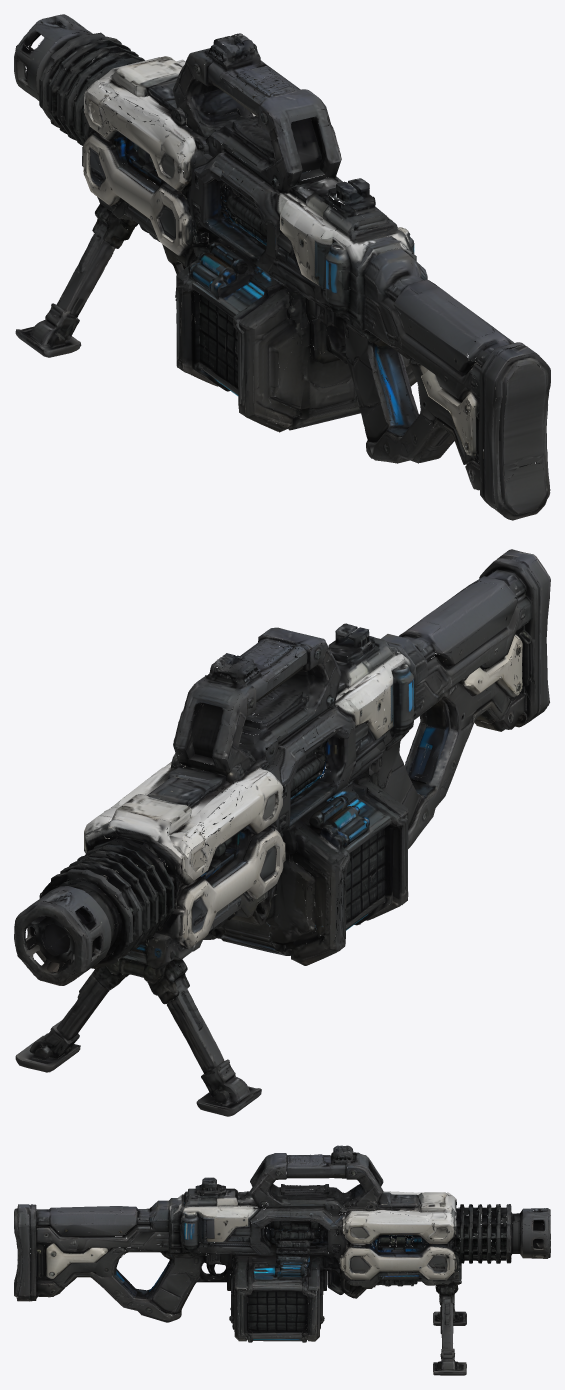
The model's file is em86m_viewmodel.glb.
3 views of the same model, one above another, from view 1: azimuth 30°, elevation 25°; view 2: azimuth 150°, elevation 25°; view 3: azimuth 270°, elevation 25° (orthographic). The views are drawn at different scales.
Parts seen in each view (by area): view 1: node_0; view 2: node_0; view 3: node_0.
Boxes of the visible parts, x1,y1,x2,y2 form: node_0: [14, 14, 550, 520]; node_0: [14, 549, 550, 1116]; node_0: [14, 1145, 550, 1375].
Size of the model in its own units: 0.2922 by 0.4487 by 1.1.
1 material, 1 textured.
